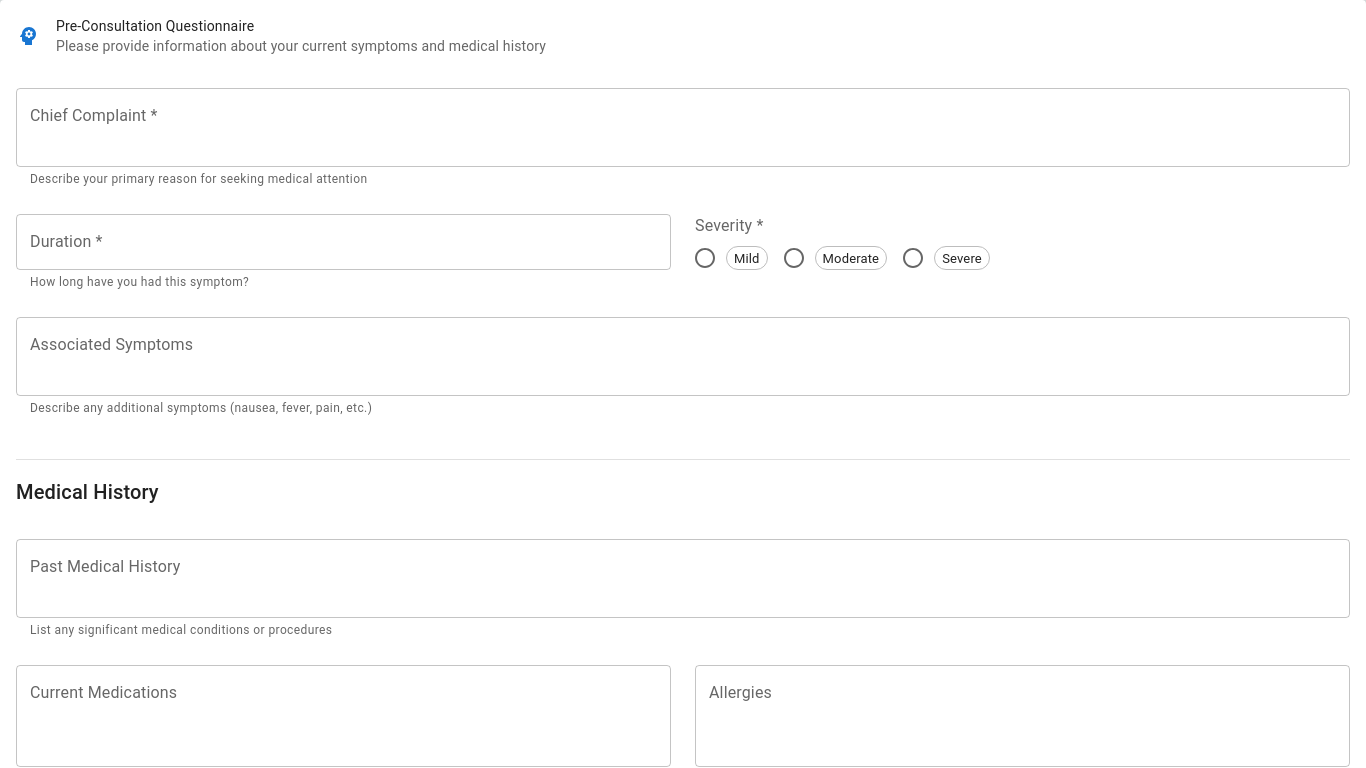
PreDiagnosisQuestionnaire › resets form when reset button is clicked
In the text box labelled "Chief Complaint *": (683, 128) [30,104,1336,150], type "Test complaint"
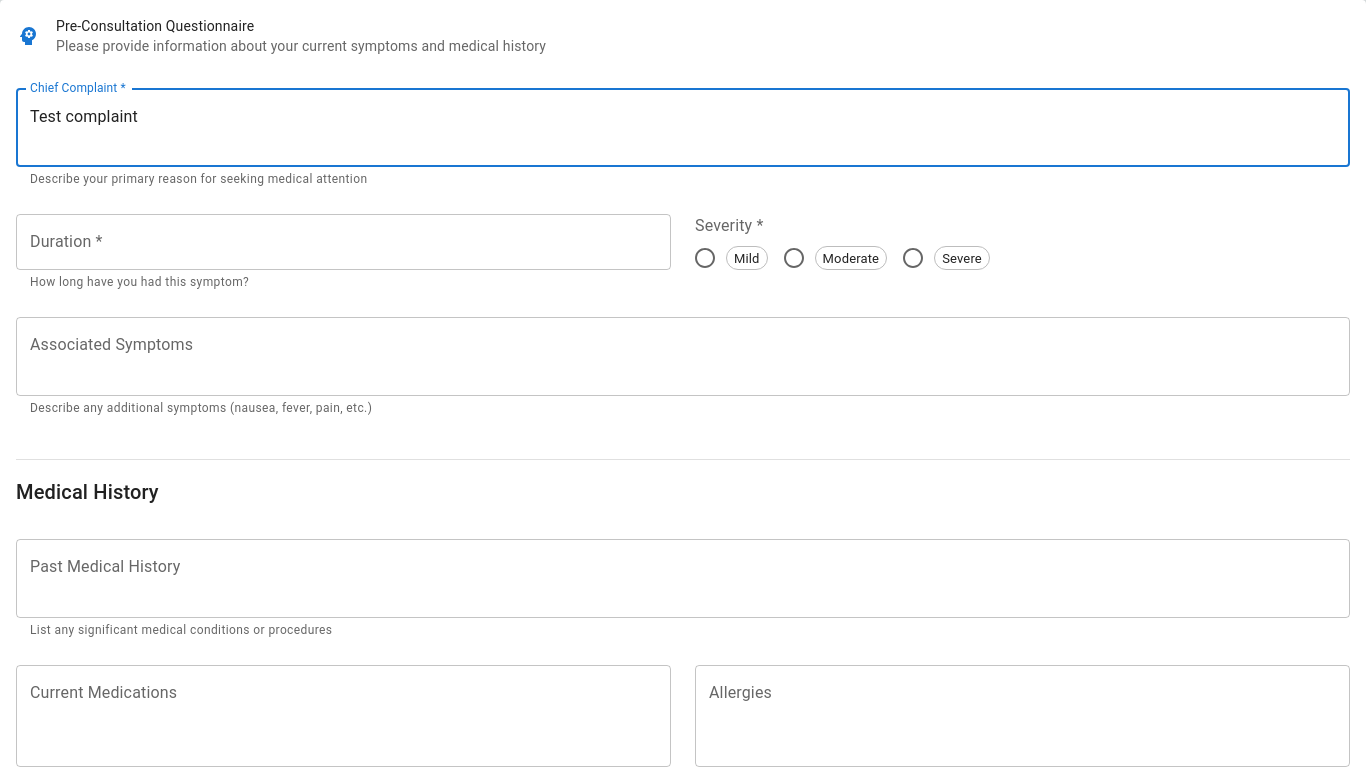
In the field labelled "Duration *": (344, 242) [16,214,671,270], type "Test duration"
(page scrolled)
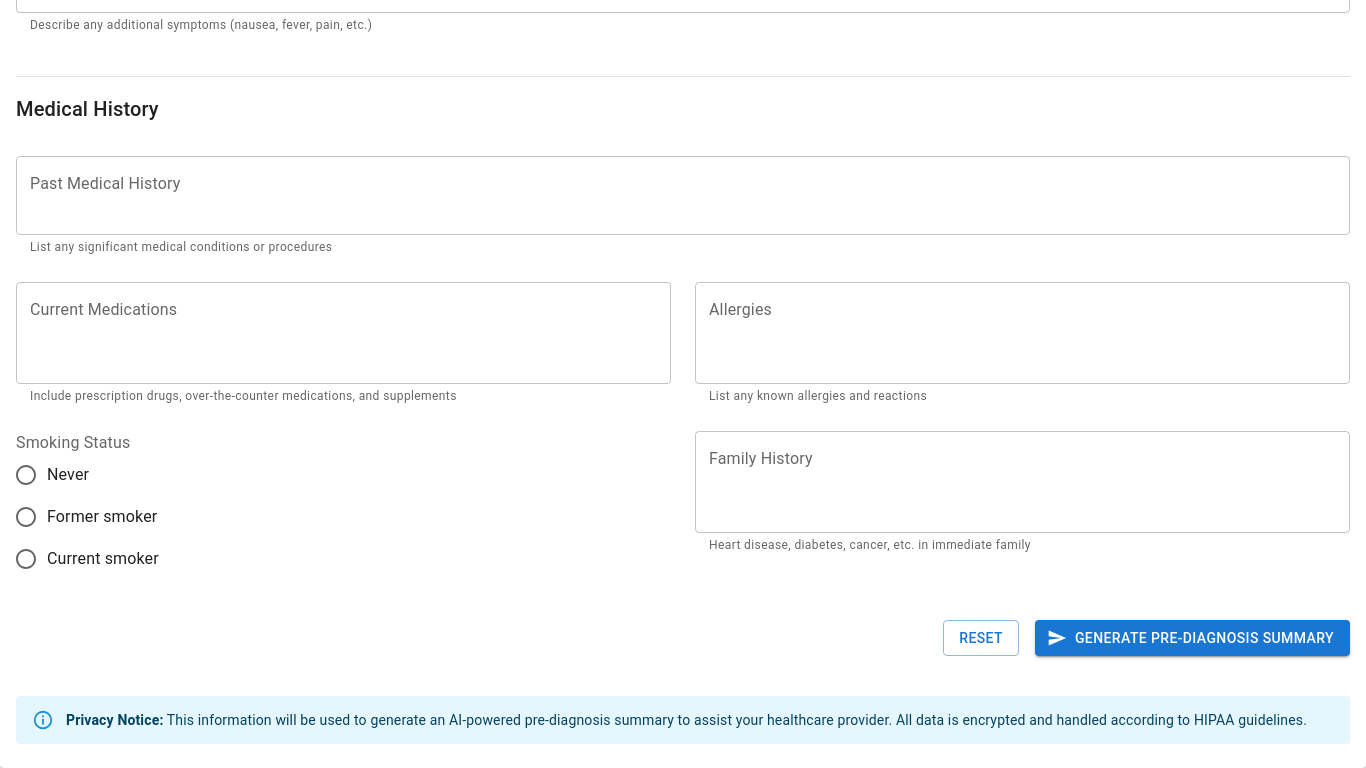
Note: Click reset button
Click the button "Reset": (981, 638) [943,620,1019,656]
(page scrolled)
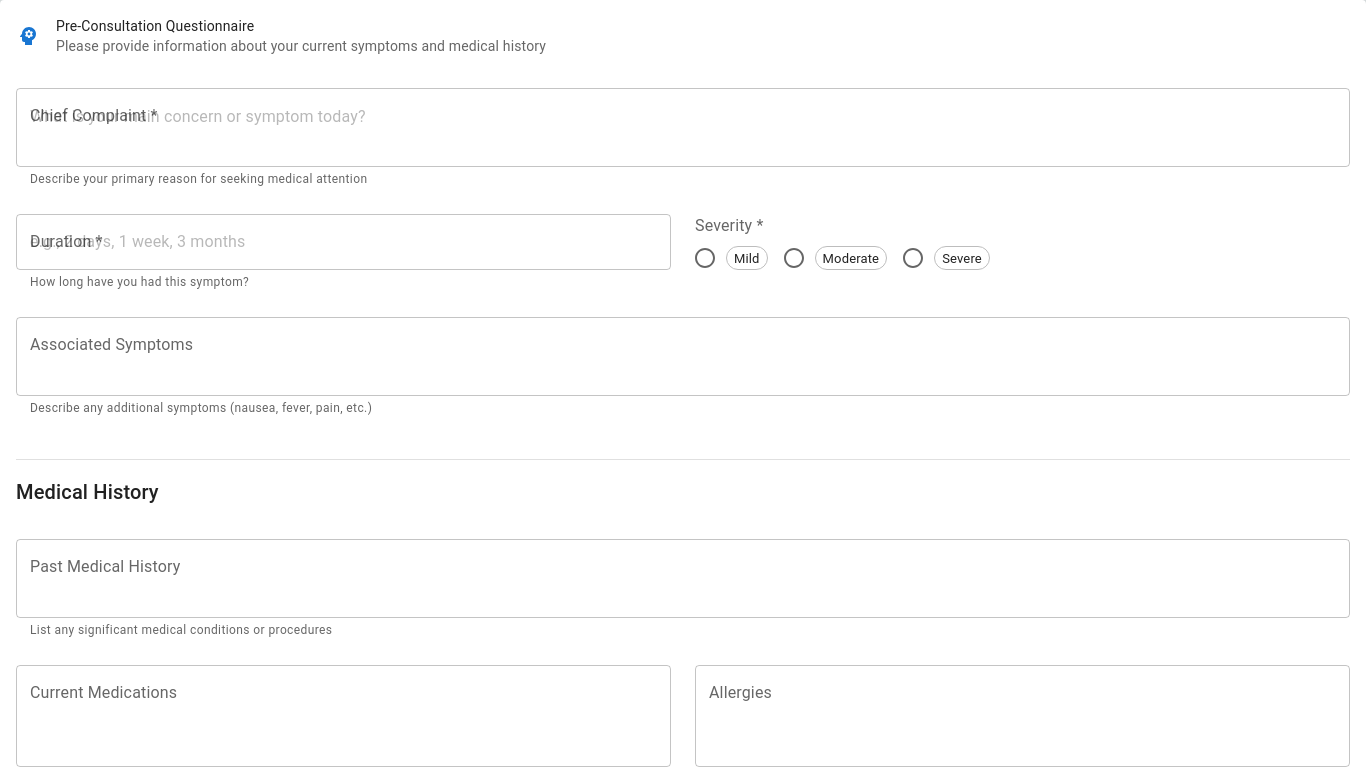
Check: the text box labelled "Chief Complaint *" is empty, box [30,104,1336,150]
Check: the field labelled "Duration *" is empty, box [16,214,671,270]
